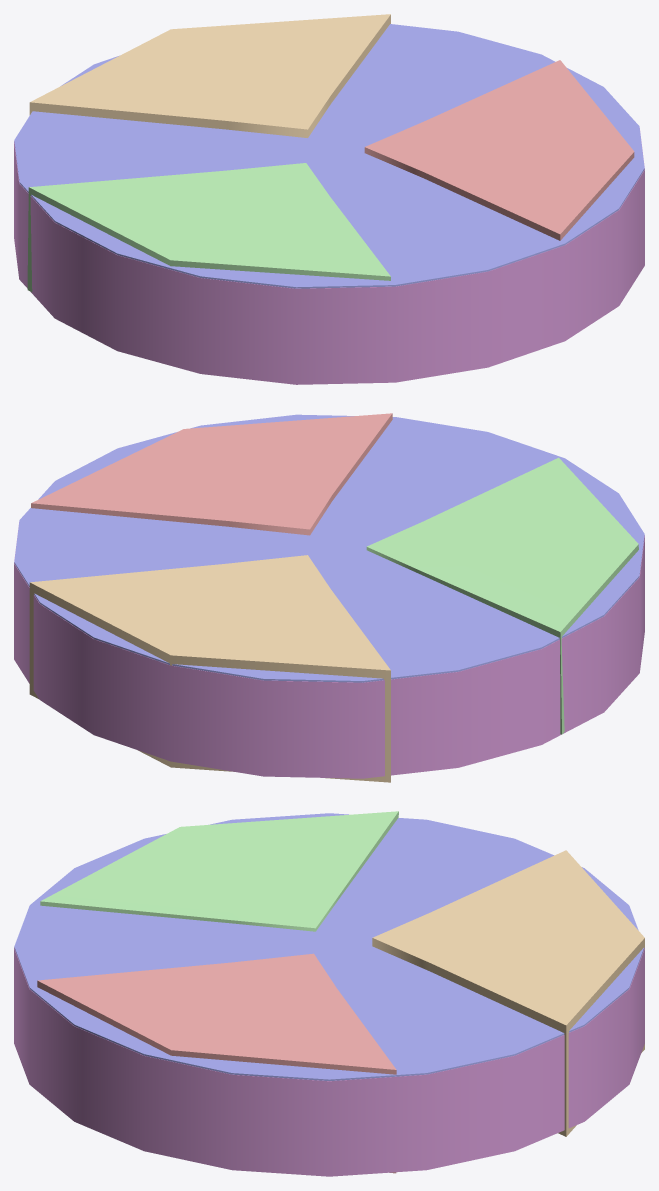
File: HVArena7.fbx
3 views of the same model, one above another, from view 1: azimuth 30°, elevation 25°; view 2: azimuth 150°, elevation 25°; view 3: azimuth 270°, elevation 25° (orthographic).
Parts seen in each view (by area): view 1: polySurface1, pCylinder3, pCube2, pCube5, pCube6; view 2: polySurface1, pCylinder3, pCube2, pCube6, pCube5; view 3: polySurface1, pCylinder3, pCube2, pCube5, pCube6.
Part boxes in pixels (x1=…): polySurface1: x1=14, y1=128, x2=644, y2=384; pCylinder3: x1=14, y1=24, x2=644, y2=288; pCube2: x1=29, y1=14, x2=390, y2=137; pCube5: x1=27, y1=163, x2=390, y2=291; pCube6: x1=364, y1=60, x2=634, y2=240; polySurface1: x1=14, y1=522, x2=644, y2=778; pCylinder3: x1=14, y1=414, x2=644, y2=682; pCube2: x1=29, y1=555, x2=390, y2=782; pCube6: x1=31, y1=413, x2=392, y2=535; pCube5: x1=366, y1=457, x2=638, y2=734; polySurface1: x1=14, y1=948, x2=644, y2=1176; pCylinder3: x1=14, y1=813, x2=644, y2=1080; pCube2: x1=372, y1=850, x2=644, y2=1136; pCube5: x1=40, y1=811, x2=398, y2=931; pCube6: x1=37, y1=953, x2=396, y2=1173.
Bounding box in the file's own units: 19.45 × 3.79 × 19.45.
